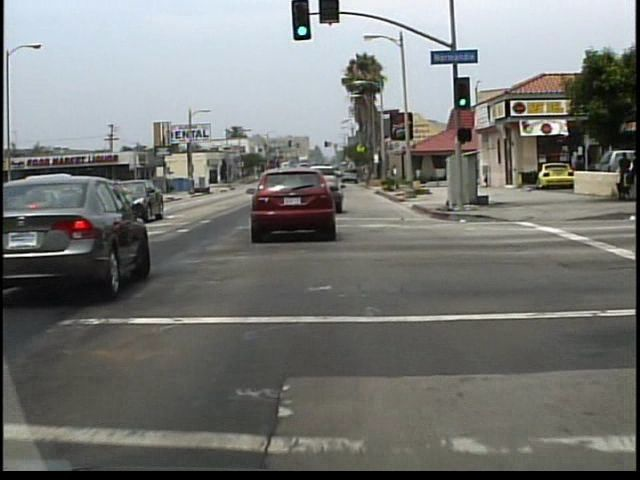person: (571, 153, 588, 195)
